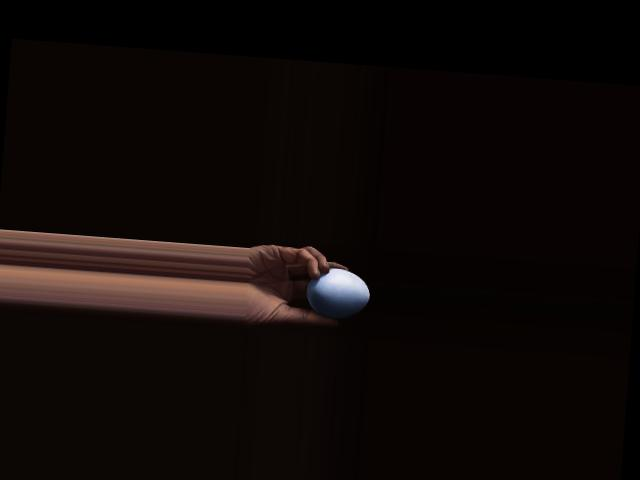egg: (305, 265, 372, 320)
